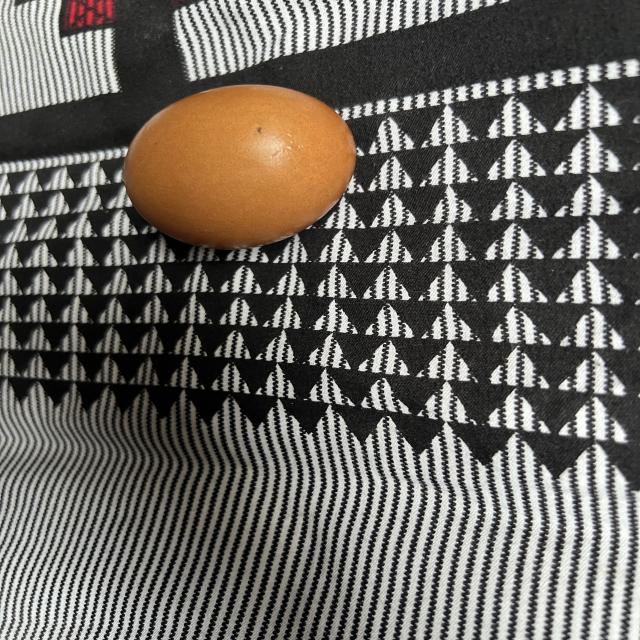Egg: (118, 80, 363, 250)
